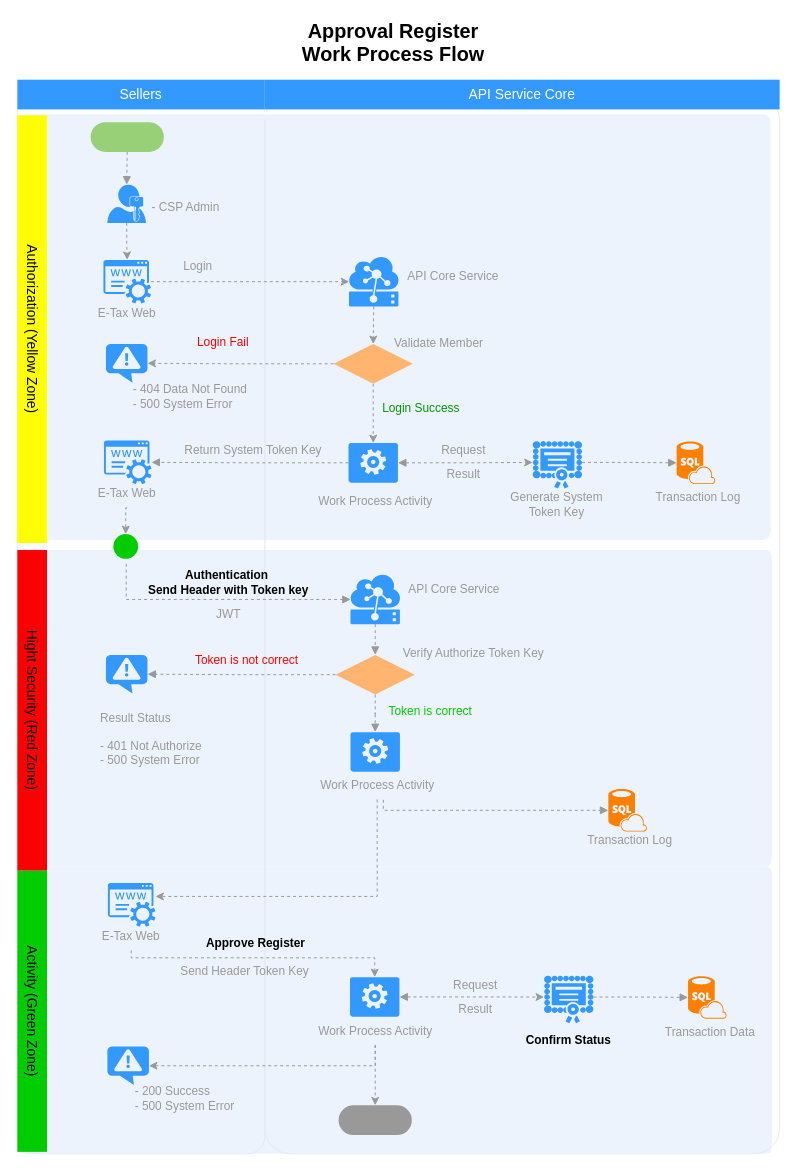
The diagram is 797 pixels wide and 1171 high, and some of its shapes have lost their labels. The centre of each missing label's shape, as x and y in pixels:
End: the point at 374,1120
Start: the point at 126,136
